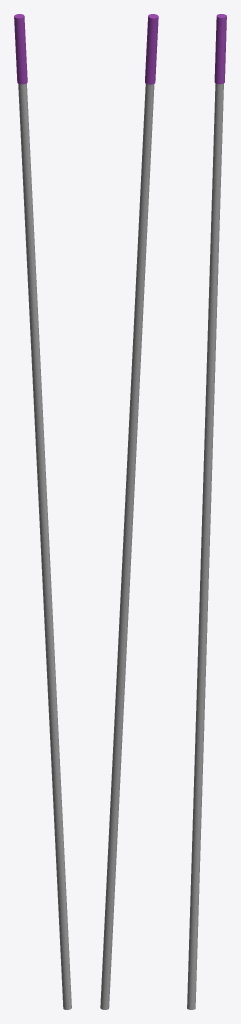
File: purple.glb
The picture shows the model from 3 angles, left to right: view 1: azimuth 30°, elevation 25°; view 2: azimuth 210°, elevation 25°; view 3: azimuth 270°, elevation 25°; orthographic projection.
Parts seen in each view (by area): view 1: Electrode_2_Tip; view 2: Electrode_2_Tip; view 3: Electrode_2_Tip.
Part boxes in pixels (left/top/right/bottom): Electrode_2_Tip: left=14, top=14, right=71, bottom=1009; Electrode_2_Tip: left=100, top=14, right=158, bottom=1009; Electrode_2_Tip: left=187, top=14, right=226, bottom=1009.
Size of the model in its own units: 0.1634 by 3.75 by 0.1387.
2 materials, 2 textured.
